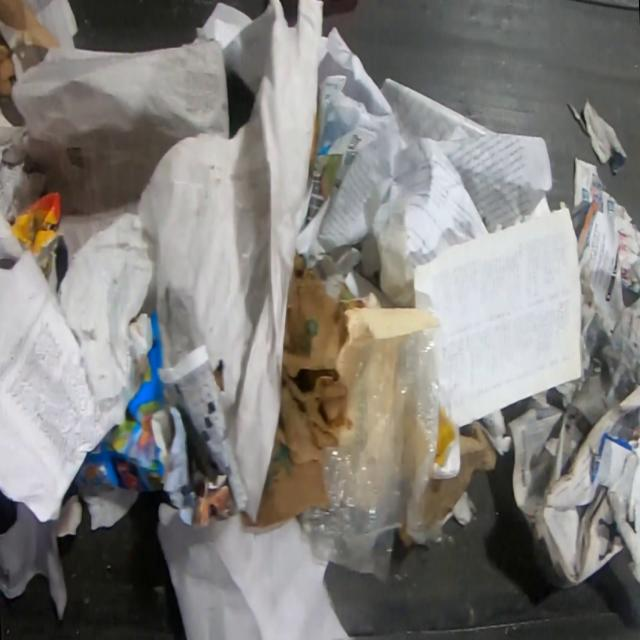cardboard: (256, 252, 352, 528), (423, 422, 498, 521)
soft_plastic: (302, 305, 444, 583)
